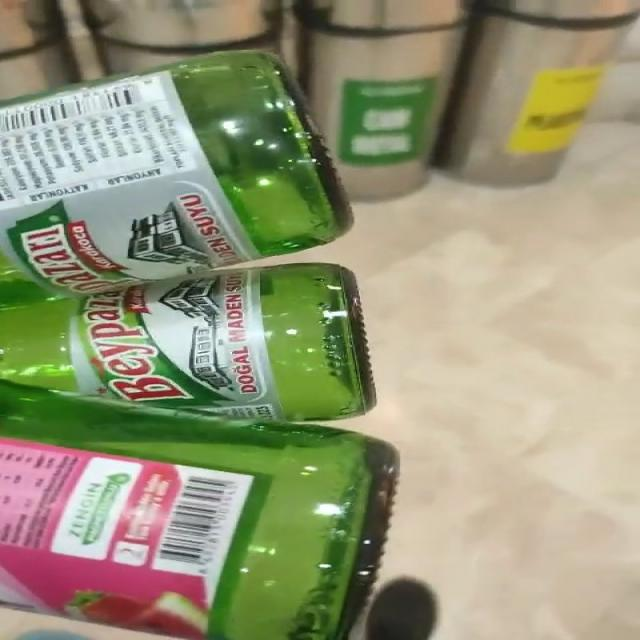glass: (1, 51, 399, 640)
